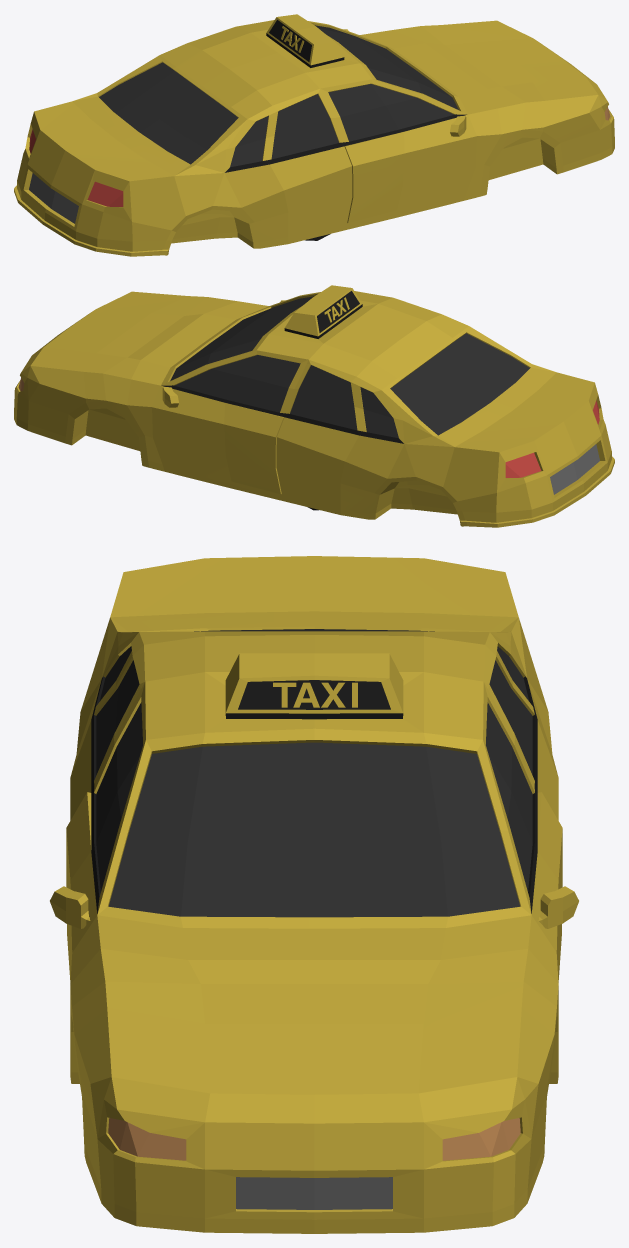
Rendered from taxi.glb.
3 views of the same model, one above another, from view 1: azimuth 30°, elevation 25°; view 2: azimuth 150°, elevation 25°; view 3: azimuth 270°, elevation 25° (orthographic). The views are drawn at different scales.
Parts seen in each view (by area): view 1: taxi_Body, taxi_Glass, taxi_Trim, taxi_Tail; view 2: taxi_Body, taxi_Glass, taxi_Trim, taxi_Tail; view 3: taxi_Body, taxi_Glass, taxi_Trim, taxi_Head.
Boxes of the visible parts, x1,y1,x2,y2 form: taxi_Body: (14,14,614,256); taxi_Glass: (99,25,458,167); taxi_Trim: (29,20,466,223); taxi_Tail: (29,129,123,206); taxi_Body: (14,285,614,527); taxi_Glass: (170,296,529,438); taxi_Trim: (162,291,599,494); taxi_Tail: (505,400,599,477); taxi_Body: (50,556,578,1233); taxi_Glass: (96,629,532,917); taxi_Trim: (91,676,537,1209); taxi_Head: (108,1118,520,1160).
Size of the model in its own units: 4.12 by 1.54 by 1.77.
